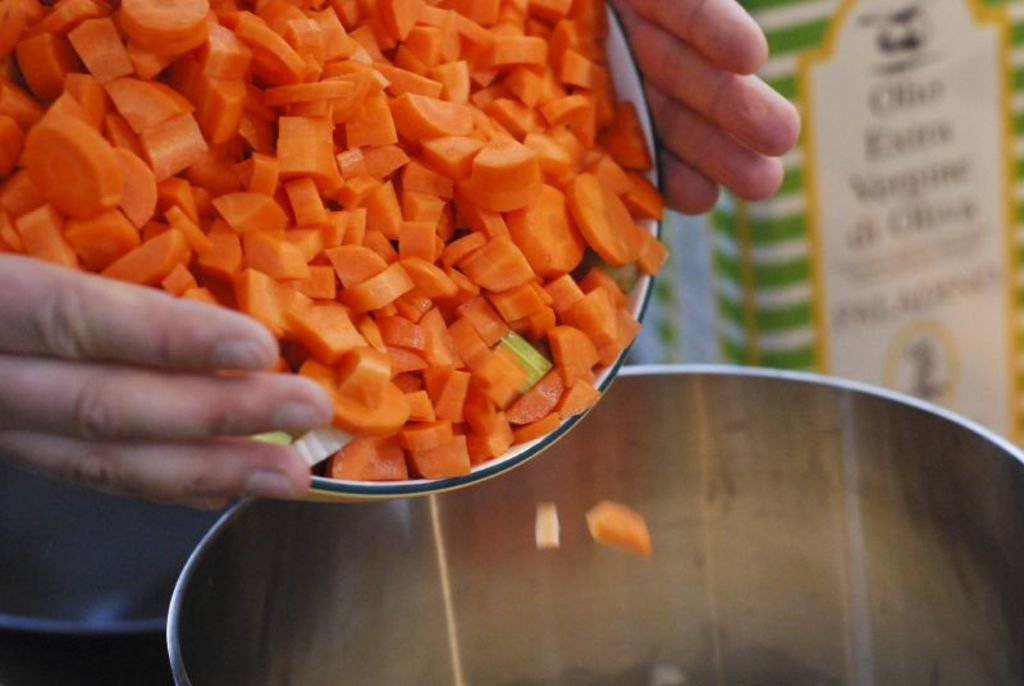Carrot: (0, 0, 678, 492), (295, 353, 410, 438), (579, 495, 652, 552), (532, 504, 561, 547)
